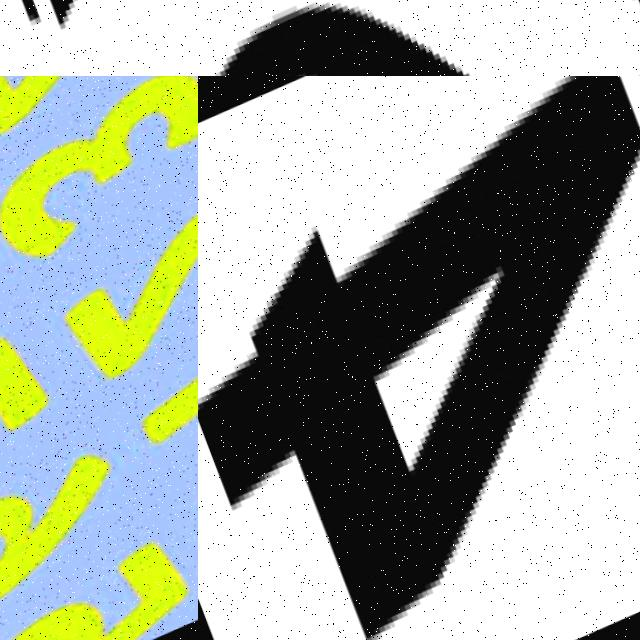1: (114, 276, 198, 478)
2: (36, 161, 198, 404)
3: (0, 76, 198, 289)
4: (0, 76, 173, 185)
5: (0, 530, 198, 640)
6: (0, 416, 157, 640)
7: (0, 320, 76, 559)
S: (198, 0, 640, 76)
